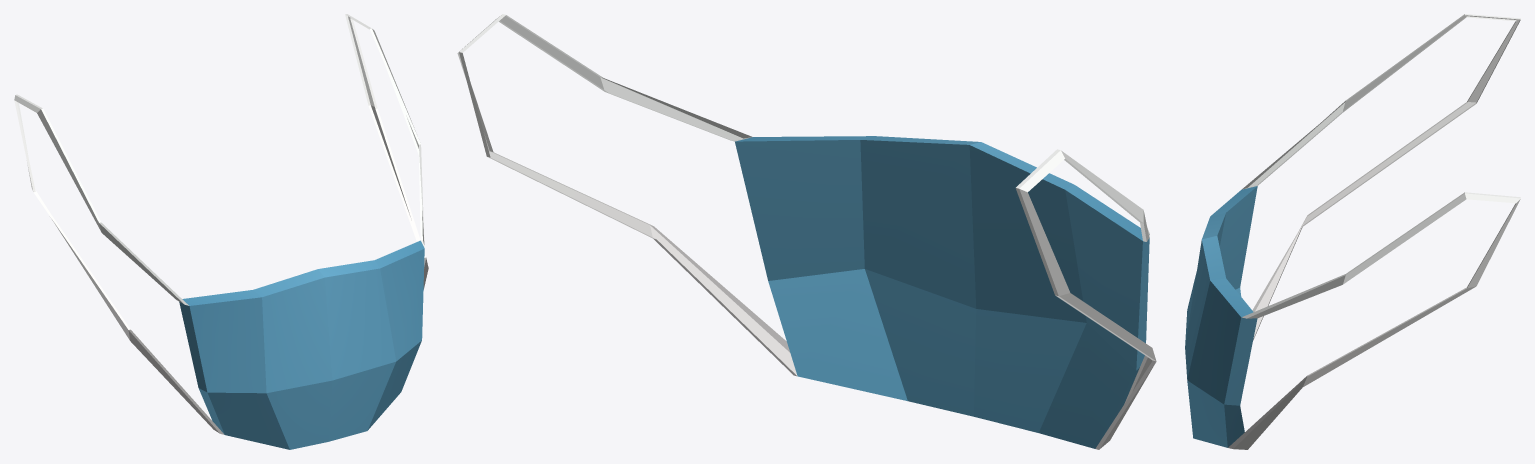
Rendered from surgicalmask.fbx.
The picture shows the model from 3 angles, left to right: view 1: azimuth 30°, elevation 25°; view 2: azimuth 150°, elevation 25°; view 3: azimuth 270°, elevation 25°; orthographic projection. The views are drawn at different scales.
Parts seen in each view (by area): view 1: surgicalmask; view 2: surgicalmask; view 3: surgicalmask.
Boxes of the visible parts, x1,y1,x2,y2 form: surgicalmask: (14, 14, 428, 449); surgicalmask: (457, 14, 1156, 449); surgicalmask: (1185, 14, 1520, 449).
Bounding box in the file's own units: 25.46 × 20.04 × 19.36.
